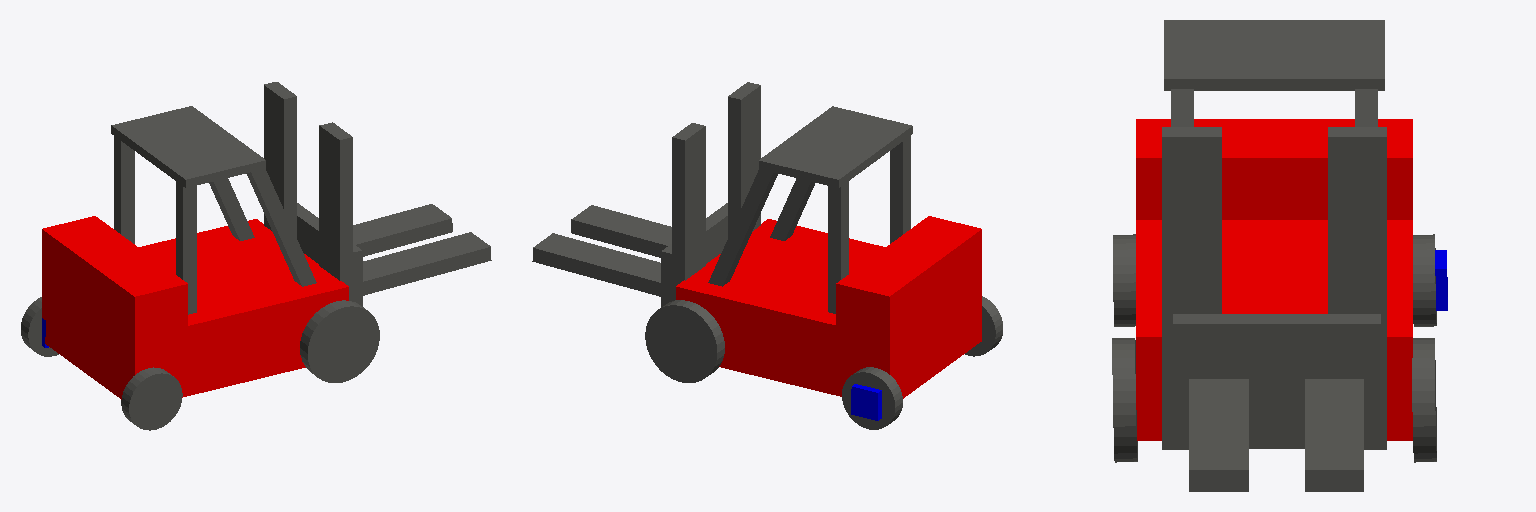
robot.urdf — forklift:
<?xml version="1.0"?>
<robot name="forklift">

  <!-- JointStatePublisher publishes joint state information for the model.
         In future versions of Gazebo, replace 'ignition-gazebo' with 'gz-sim' and
         'ignition::gazebo' with 'gz::sim'
    -->
    <gazebo>
      <plugin filename="gz-sim-joint-state-publisher-system" name="gz::sim::systems::JointStatePublisher">
          <topic>joint_states</topic>
      </plugin>    
  </gazebo> 

  <!-- Base Link -->
  <link name="base_link">
    <visual>
      <geometry>
        <box size="0.8 0.6 0.25" />
      </geometry>
      <origin xyz="0 0 0.2" rpy="0 0 0"/>
      <material name="red">
        <color rgba="1.0 0 0 1.0" />
      </material>
    </visual>
    <collision>
      <geometry>
        <box size="0.8 0.6 0.25" />
      </geometry>
    </collision>
  </link>


<!-- Marker for Wheels -->
  <link name="wheel_marker_1">
    <visual>
      <geometry>
        <box size="0.1 0.1 0.1" />
      </geometry>
      <material name="blue">
        <color rgba="0 0 1 1.0" />
      </material>
    </visual>
    <collision>
      <geometry>
        <box size="0.1 0.1 0.1" />
      </geometry>
    </collision>
    <inertial>
      <mass value="0.5" />
      <origin xyz="0 0 0" />
      <inertia ixx="0.01" ixy="0.0" ixz="0.0" iyy="0.01" iyz="0.0" izz="0.01" />
    </inertial>
  </link>

  <!-- Similarly, define other markers as needed -->

  <!-- Attach Markers to Wheels -->
  <joint name="wheel_marker_1_to_wheel_1" type="fixed">
    <parent link="wheel_4" />
    <child link="wheel_marker_1" />
    <origin xyz="0 0 0" rpy="0 0 0" />
  </joint>

  <!-- Cockpit Beam 1 -->
  <link name="cockpit_beam_1">
    <visual>
      <geometry>
        <box size="0.05 0.05 0.53" />
      </geometry>
      <material name="gray">
        <color rgba="0.388 0.388 0.373 1" />
      </material>
    </visual>
    <collision>
      <geometry>
        <box size="0.05 0.05 0.53" />
      </geometry>
    </collision>
    <inertial>
      <mass value="20.0" />
      <origin xyz="0 0 0" />
      <inertia ixx="0.1" ixy="0.0" ixz="0.0" iyy="0.1" iyz="0.0" izz="0.1" />
    </inertial>
  </link>

  <!-- Cockpit Beam 2 -->
  <link name="cockpit_beam_2">
    <visual>
      <geometry>
        <box size="0.05 0.05 0.54" />
      </geometry>
      <material name="gray">
        <color rgba="0.388 0.388 0.373 1" />
      </material>
    </visual>
    <collision>
      <geometry>
        <box size="0.05 0.05 0.54" />
      </geometry>
    </collision>
    <inertial>
      <mass value="20.0" />
      <origin xyz="0 0 0" />
      <inertia ixx="0.1" ixy="0.0" ixz="0.0" iyy="0.1" iyz="0.0" izz="0.1" />
    </inertial>
  </link>

  <!-- Cockpit Beam 3 -->
  <link name="cockpit_beam_3">
    <visual>
      <geometry>
        <box size="0.05 0.05 0.5" />
      </geometry>
      <material name="gray">
        <color rgba="0.388 0.388 0.373 1" />
      </material>
    </visual>
    <collision>
      <geometry>
       <box size="0.05 0.05 0.5" />
      </geometry>
    </collision>
    <inertial>
      <mass value="20.0" />
      <origin xyz="0 0 0" />
      <inertia ixx="0.1" ixy="0.0" ixz="0.0" iyy="0.1" iyz="0.0" izz="0.1" />
    </inertial>
  </link>

  <!-- Roof -->
  <link name="roof">
    <visual>
      <geometry>
        <box size="0.3 0.48 0.03" />
      </geometry>
      <material name="gray">
        <color rgba="0.388 0.388 0.373 1" />
      </material>
    </visual>
    <collision>
      <geometry>
        <box size="0.3 0.48 0.03" />
      </geometry>
    </collision>
    <inertial>
      <mass value="20.0" />
      <origin xyz="0 0 0" />
      <inertia ixx="0.1" ixy="0.0" ixz="0.0" iyy="0.1" iyz="0.0" izz="0.1" />
    </inertial>
  </link>

  <!-- Cockpit Beam 4 -->
  <link name="cockpit_beam_4">
    <visual>
      <geometry>
        <box size="0.05 0.05 0.5" />
      </geometry>
      <material name="gray">
        <color rgba="0.388 0.388 0.373 1" />
      </material>
    </visual>
    <collision>
      <geometry>
        <box size="0.05 0.05 0.5" />
      </geometry>
    </collision>
    <inertial>
      <mass value="20.0" />
      <origin xyz="0 0 0" />
      <inertia ixx="0.1" ixy="0.0" ixz="0.0" iyy="0.1" iyz="0.0" izz="0.1" />
    </inertial>
  </link>

  <!-- Wheel 1 -->
  <link name="wheel_1">
    <visual>
      <geometry>
        <cylinder radius="0.135" length="0.05" />
      </geometry>
      <material name="gray">
        <color rgba="0.388 0.388 0.373 1" />
      </material>
    </visual>
    <collision>
      <geometry>
        <cylinder radius="0.135" length="0.05" />
      </geometry>
    </collision>
    <inertial>
      <mass value="5.0" />
      <origin xyz="0 0 0" />
      <inertia ixx="0.02" ixy="0.0" ixz="0.0" iyy="0.02" iyz="0.0" izz="0.02" />
    </inertial>
  </link>

  <!-- Wheel 2 -->
  <link name="wheel_2">
    <visual>
      <geometry>
        <cylinder radius="0.135" length="0.05" />
      </geometry>
     <material name="gray">
        <color rgba="0.388 0.388 0.373 1" />
      </material>
    </visual>
    <collision>
      <geometry>
        <cylinder radius="0.135" length="0.05" />
      </geometry>
    </collision>
    <inertial>
      <mass value="5.0" />
      <origin xyz="0 0 0" />
      <inertia ixx="0.02" ixy="0.0" ixz="0.0" iyy="0.02" iyz="0.0" izz="0.02" />
    </inertial>
  </link>

  <!-- Wheel 3 -->
  <link name="wheel_3">
    <visual>
      <geometry>
        <cylinder radius="0.1" length="0.05" />
      </geometry>
      <material name="gray">
        <color rgba="0.388 0.388 0.373 1" />
      </material>
    </visual>
    <collision>
      <geometry>
        <cylinder radius="0.1" length="0.05" />
      </geometry>
    </collision>
    <inertial>
      <mass value="5.0" />
      <origin xyz="0 0 0" />
      <inertia ixx="0.02" ixy="0.0" ixz="0.0" iyy="0.02" iyz="0.0" izz="0.02" />
    </inertial>
  </link>

  <!-- Wheel 4 -->
  <link name="wheel_4">
    <visual>
      <geometry>
        <cylinder radius="0.1" length="0.05" />
      </geometry>
      <material name="gray">
        <color rgba="0.388 0.388 0.373 1" />
      </material>
    </visual>
    <collision>
      <geometry>
        <cylinder radius="0.1" length="0.05" />
      </geometry>
    </collision>
    <inertial>
      <mass value="5.0" />
      <origin xyz="0 0 0" />
      <inertia ixx="0.02" ixy="0.0" ixz="0.0" iyy="0.02" iyz="0.0" izz="0.02" />
    </inertial>
  </link>

 <!-- kisko 1 -->
  <link name="fork_plate_slider_1">
    <visual>
      <geometry>
        <box size="0.05 0.13 0.75" />
      </geometry>
      
      <material name="gray">
        <color rgba="0.388 0.388 0.373 1" />
      </material>
    </visual>
    <collision>
      <geometry>
        <box size="0.05 0.13 0.75" />
      </geometry>
    </collision>
    <inertial>
      <mass value="20.0" />
      <origin xyz="0 0 0" />
      <inertia ixx="0.1" ixy="0.0" ixz="0.0" iyy="0.1" iyz="0.0" izz="0.1" />
    </inertial>
  </link>

<!-- kisko 2 -->
  <link name="fork_plate_slider_2">
    <visual>
      <geometry>
        <box size="0.05 0.13 0.75" />
      </geometry>
      <material name="gray">
        <color rgba="0.388 0.388 0.373 1" />
      </material>
    </visual>
    <collision>
      <geometry>
         <box size="0.05 0.13 0.75" />
      </geometry>
    </collision>
    <inertial>
      <mass value="20.0" />
      <origin xyz="0 0 0" />
      <inertia ixx="0.1" ixy="0.0" ixz="0.0" iyy="0.1" iyz="0.0" izz="0.1" />
    </inertial>
  </link>

    <!-- haarukka 1 -->
  <link name="fork_1">
    <visual>
      <geometry>
        <box size="0.05 0.13 0.5" />
      </geometry>
      <material name="gray">
        <color rgba="0.388 0.388 0.373 1" />
      </material>
      <origin xyz="0.275 -0.2 -0.2" rpy="0 -1.6 0" />
    </visual>
    <collision>
      <geometry>
        <box size="0.05 0.13 0.5" />
      </geometry>
    </collision>
    <inertial>
      <mass value="20.0" />
      <origin xyz="0 0 0" />
      <inertia ixx="0.1" ixy="0.0" ixz="0.0" iyy="0.1" iyz="0.0" izz="0.1" />
    </inertial>
  </link>

      <!-- haarukka 2 -->
  <link name="fork_2">
    <visual>
      <geometry>
        <box size="0.05 0.13 0.5" />
      </geometry>
      <material name="gray">
        <color rgba="0.388 0.388 0.373 1" />
      </material>
      <origin xyz="0.275 -0.15 -0.2" rpy="0 -1.6 0" />
    </visual>
    <collision>
      <geometry>
        <box size="0.05 0.13 0.5" />
      </geometry>
    </collision>
    <inertial>
      <mass value="20.0" />
      <origin xyz="0 0 0" />
      <inertia ixx="0.1" ixy="0.0" ixz="0.0" iyy="0.1" iyz="0.0" izz="0.1" />
    </inertial>
  </link>

      <!-- haarukkakisko -->
  <link name="fork_plate">
    <visual>
      <geometry>
        <box size="0.05 0.45 0.3" />
      </geometry>
      <material name="gray">
        <color rgba="0.388 0.388 0.373 1" />
      </material>
      <origin xyz="0 -0.175 -0.2" rpy="0 0 0"/> 
      </visual>
    <collision>
      <geometry>
        <box size="0.05 0.13 0.5" />
      </geometry>
    </collision>
    <inertial>
      <mass value="20.0" />
      <origin xyz="0 0 0" />
      <inertia ixx="0.1" ixy="0.0" ixz="0.0" iyy="0.1" iyz="0.0" izz="0.1" />
    </inertial>
  </link>


   <!-- Base Link -->
  <link name="motor">
    <visual>
      <geometry>
        <box size="0.2 0.6 0.15" />
      </geometry>
      <material name="red">
        <color rgba="1.0 0 0 1.0" />
      </material>
    </visual>
    <collision>
      <geometry>
        <box size="0.8 0.6 0.25" />
      </geometry>
    </collision>
    <inertial>
      <mass value="50.0" />
      <origin xyz="0 0 0" />
      <inertia ixx="0.2" ixy="0.0" ixz="0.0" iyy="0.2" iyz="0.0" izz="0.2" />
    </inertial>
  </link>

  <!-- Connect the fork to the slider-->
  <joint name="motor_to_base" type="fixed">
    <parent link="base_link" />
    <child link="motor" />
    <origin xyz="-0.3 0 0.4" rpy="0 0 0" />
  </joint>


     <!-- Connect the fork 2 to plate-->
  <joint name="fork_2_to_plate" type="fixed">
    <parent link="fork_plate" />
    <child link="fork_2" />
    <origin xyz="0 -0.15 0" rpy="0 0 0" />
  </joint>
    
    <!-- Connect the fork 1 to plate-->
  <joint name="fork_1_to_plate" type="fixed">
    <parent link="fork_plate" />
    <child link="fork_1" />
    <origin xyz="0 0.15 0" rpy="0 0 0" />
  </joint>


    <!-- Joints connecting wheels to base_link -->
  <joint name="fork_slider_2_to_base" type="fixed">
    <parent link="base_link" />
    <child link="fork_plate_slider_2" />
    <origin xyz="0.42 -0.18 0.45" rpy="0 0 0" />
  </joint>

    <!-- Joints connecting wheels to base_link -->
  <joint name="fork_slider_1_to_base" type="fixed">
    <parent link="base_link" />
    <child link="fork_plate_slider_1" />
    <origin xyz="0.42 0.18 0.45" rpy="0 0 0" />
  </joint>


  <!-- Joints connecting base_link to wheels -->
  <joint name="base_to_wheel_1" type="continuous">
    <parent link="base_link" />
    <child link="wheel_1" />
    <origin xyz="0.35 -0.325 0.15" rpy="-1.55 0 0" />
    <axis xyz="0 0 1" />
    <limit effort="330.0" lower="-6.28318530718" upper="6.28318530718" velocity="2.09439510239" />
  </joint>

  <joint name="base_to_wheel_2" type="continuous">
    <parent link="base_link" />
    <child link="wheel_2" />
    <origin xyz="0.35 0.325 0.15" rpy="-1.55 0 0" />
    <axis xyz="0 0 1" />
  </joint>

  <joint name="base_to_wheel_3" type="continuous">
    <parent link="base_link" />
    <child link="wheel_3" />
    <origin xyz="-0.35 -0.325 0.11" rpy="-1.55 0 0" />
    <axis xyz="0 0 1" />
  </joint>

  <joint name="base_to_wheel_4" type="continuous">
    <parent link="base_link" />
    <child link="wheel_4" />
    <origin xyz="-0.35 0.325 0.11" rpy="-1.55 0 0" />
    <axis xyz="0 0 1" />
  </joint>

  <!-- Joints connecting base_link to cockpit_beam_1 -->
  <joint name="base_to_cockpit_beam_1" type="fixed">
    <parent link="base_link" />
    <child link="cockpit_beam_1" />
    <origin xyz="0.2 -0.2 0.55" rpy="0 -0.4 0" />
  </joint>

  <!-- Joints connecting base_link to cockpit_beam_2 -->
  <joint name="base_to_cockpit_beam_2" type="fixed">
    <parent link="base_link" />
    <child link="cockpit_beam_2" />
    <origin xyz="0.2 0.2 0.55" rpy="0 -0.4 0" />
  </joint>

  <!-- Joints connecting base_link to cockpit_beam_3 -->
  <joint name="base_to_cockpit_beam_3" type="fixed">
    <parent link="base_link" />
    <child link="cockpit_beam_3" />
    <origin xyz="-0.15 0.2 0.55" rpy="0 0 0" />
  </joint>

  <!-- Joints connecting base_link to cockpit_beam_4 -->
  <joint name="base_to_cockpit_beam_4" type="fixed">
    <parent link="base_link" />
    <child link="cockpit_beam_4" />
    <origin xyz="-0.15 -0.2 0.55" rpy="0 0 0" />
  </joint>

  <!-- Joint connecting base_link to roof -->
  <joint name="roof_to_beam" type="fixed">
    <parent link="cockpit_beam_4" />
    <child link="roof" />
    <origin xyz="0.125 0.2 0.25" rpy="0 0 0" />
  </joint>

<!-- Connect the fork plate to the slider-->
<joint name="fork_plate_to_slider" type="prismatic">
  <parent link="fork_plate_slider_1" />
  <child link="fork_plate" />
  <origin xyz="0.05 0 0" rpy="0 0 0" />
  <axis xyz="0 0 1"/>
  <limit lower="-0.2" upper="0.25" effort="100" velocity="1.0"/>
</joint>

  <gazebo>
    <plugin filename="gz-sim-joint-position-controller-system" name="gz::sim::systems::JointPositionController">
        <joint_name>fork_plate_to_slider</joint_name>
        <topic>fork_control</topic>
    </plugin>    
</gazebo>  

</robot>

--- Render facts (derived) ---
3 views of the same robot in one strip: view 1: azimuth 30°, elevation 25°; view 2: azimuth 150°, elevation 25°; view 3: azimuth 270°, elevation 25° (orthographic).
Model forklift with 17 links and 16 joints (4 continuous, 1 prismatic, 11 fixed), rooted at base_link, posed all joints at 0.
Links seen in each view (by area): view 1: base_link, motor, roof, fork_plate_slider_2, wheel_1, fork_2, fork_plate_slider_1, fork_1, wheel_3, cockpit_beam_1, cockpit_beam_4, cockpit_beam_3 (+3 smaller); view 2: base_link, motor, roof, fork_plate_slider_1, wheel_2, fork_1, fork_plate_slider_2, fork_2, cockpit_beam_2, cockpit_beam_3, wheel_4, cockpit_beam_4 (+4 smaller); view 3: base_link, fork_plate, motor, roof, fork_plate_slider_2, fork_plate_slider_1, fork_2, fork_1, wheel_2, wheel_1, wheel_3, wheel_4 (+3 smaller).
Boxes of the visible links, bbox=[...] form: base_link: bbox=[42, 219, 348, 399]; motor: bbox=[42, 216, 187, 338]; roof: bbox=[111, 106, 265, 187]; fork_plate_slider_2: bbox=[319, 122, 352, 301]; wheel_1: bbox=[300, 300, 379, 382]; fork_2: bbox=[363, 232, 491, 295]; fork_plate_slider_1: bbox=[264, 82, 296, 237]; fork_1: bbox=[353, 204, 452, 256]; wheel_3: bbox=[121, 367, 182, 430]; cockpit_beam_1: bbox=[246, 169, 316, 286]; cockpit_beam_4: bbox=[176, 177, 196, 314]; cockpit_beam_3: bbox=[114, 136, 134, 243]; base_link: bbox=[676, 219, 981, 398]; motor: bbox=[836, 216, 981, 338]; roof: bbox=[759, 106, 912, 187]; fork_plate_slider_1: bbox=[672, 123, 705, 300]; wheel_2: bbox=[645, 300, 724, 382]; fork_1: bbox=[532, 233, 660, 296]; fork_plate_slider_2: bbox=[728, 82, 760, 236]; fork_2: bbox=[571, 205, 671, 257]; cockpit_beam_2: bbox=[708, 169, 777, 286]; cockpit_beam_3: bbox=[828, 181, 848, 313]; wheel_4: bbox=[842, 367, 902, 429]; cockpit_beam_4: bbox=[890, 136, 910, 243]; base_link: bbox=[1136, 220, 1412, 440]; fork_plate: bbox=[1173, 314, 1380, 448]; motor: bbox=[1136, 119, 1412, 219]; roof: bbox=[1164, 20, 1384, 90]; fork_plate_slider_2: bbox=[1162, 127, 1221, 449]; fork_plate_slider_1: bbox=[1328, 127, 1386, 449]; fork_2: bbox=[1189, 379, 1248, 491]; fork_1: bbox=[1305, 379, 1363, 491]; wheel_2: bbox=[1412, 338, 1436, 462]; wheel_1: bbox=[1112, 338, 1137, 462]; wheel_3: bbox=[1113, 234, 1135, 326]; wheel_4: bbox=[1413, 234, 1436, 326].
Bounding box of the posed robot: 1.45 × 0.7288 × 0.8155 m (x, y, z).
Geometry: primitives only (box / cylinder / sphere), no mesh files.
